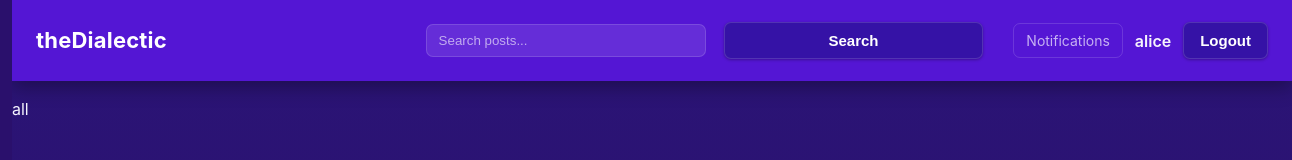
Test: Topbar › submitting a search moves the feed view to search and shows Clear
The image size is (1292, 160).
expect the text "alice" is shown: met, box [1135, 28, 1171, 52]
expect the button "Clear" is not shown: met
Type "dragons" into the field labelled "Search posts".
click(566, 40); type("dragons")  # box [426, 24, 706, 57]
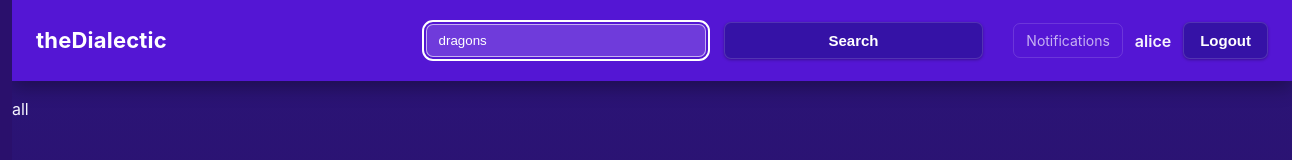
Click the button "Search".
click(853, 40)  # box [724, 22, 983, 59]
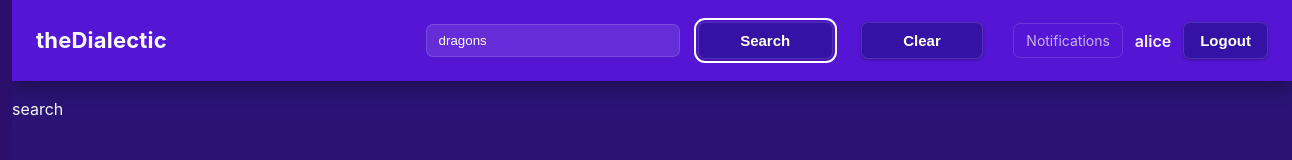
expect the text with test id "view-probe" reads "search": met, box [12, 99, 63, 119]
expect the button "Clear" is shown: met, box [861, 22, 983, 59]
